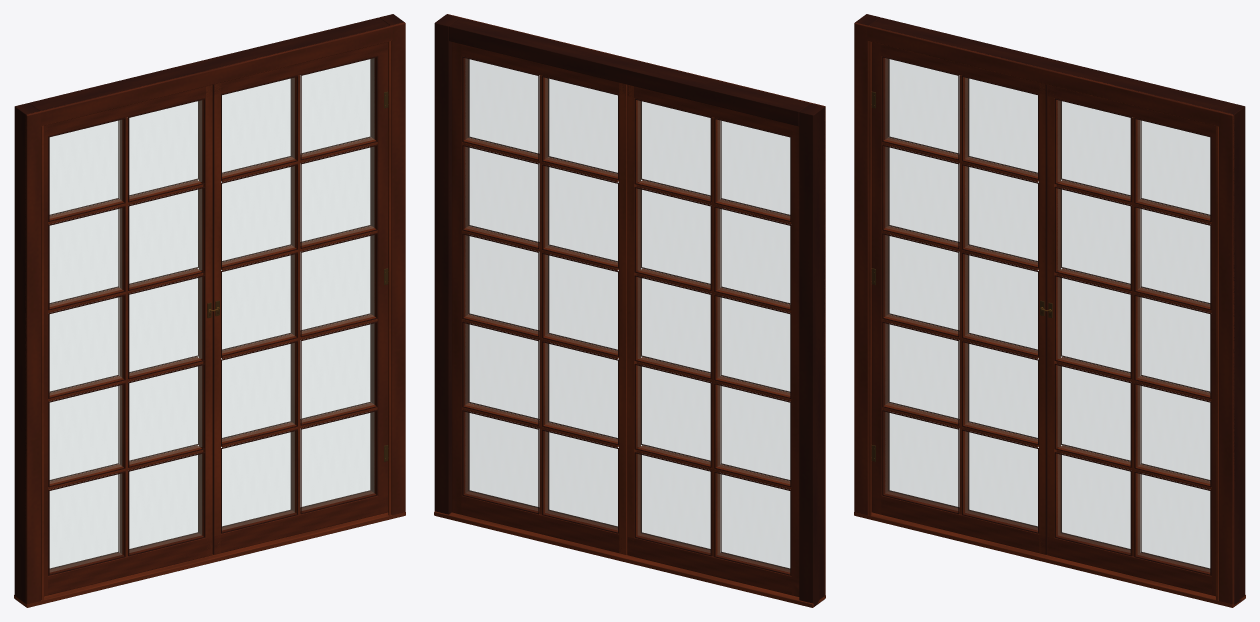
File: asset.glb
3 views of the same model, side by side, from view 1: azimuth 30°, elevation 25°; view 2: azimuth 150°, elevation 25°; view 3: azimuth 330°, elevation 25° (orthographic).
Visible parts, largest first — view 1: MaterialBatch_French_door_clear_household_glazing, MaterialBatch_French_door_reddish_stained_oak, MaterialBatch_French_door_oak_edge_grain, MaterialBatch_French_door_dark_oak_reveal; view 2: MaterialBatch_French_door_clear_household_glazing, MaterialBatch_French_door_dark_oak_reveal, MaterialBatch_French_door_oak_edge_grain, MaterialBatch_French_door_reddish_stained_oak; view 3: MaterialBatch_French_door_clear_household_glazing, MaterialBatch_French_door_reddish_stained_oak, MaterialBatch_French_door_oak_edge_grain, MaterialBatch_French_door_dark_oak_reveal.
Part boxes in pixels (x1,y1,x2,y2): MaterialBatch_French_door_clear_household_glazing: [50, 58, 374, 571]; MaterialBatch_French_door_reddish_stained_oak: [25, 22, 405, 604]; MaterialBatch_French_door_oak_edge_grain: [14, 40, 405, 607]; MaterialBatch_French_door_dark_oak_reveal: [14, 14, 404, 606]; MaterialBatch_French_door_clear_household_glazing: [465, 59, 789, 571]; MaterialBatch_French_door_dark_oak_reveal: [434, 14, 825, 607]; MaterialBatch_French_door_oak_edge_grain: [434, 75, 825, 607]; MaterialBatch_French_door_reddish_stained_oak: [447, 14, 825, 598]; MaterialBatch_French_door_clear_household_glazing: [885, 58, 1209, 571]; MaterialBatch_French_door_reddish_stained_oak: [854, 22, 1234, 606]; MaterialBatch_French_door_oak_edge_grain: [854, 40, 1245, 607]; MaterialBatch_French_door_dark_oak_reveal: [855, 14, 1245, 606].
Size of the model in its own units: 66 by 82 by 4.
Materials: 6 (6 with a texture image).
